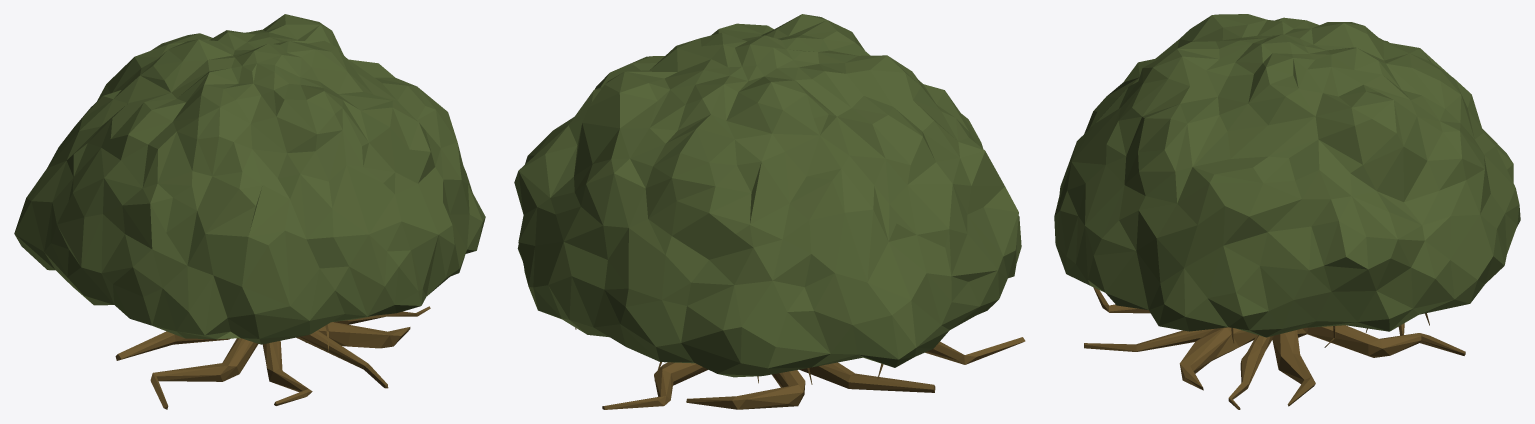
File: delh_foli_03.fbx
3 renders of one model, left to right at view 1: azimuth 30°, elevation 25°; view 2: azimuth 150°, elevation 25°; view 3: azimuth 270°, elevation 25°, orthographic. The views are drawn at different scales.
Parts seen in each view (by area): view 1: delh_foli_03; view 2: delh_foli_03; view 3: delh_foli_03.
Boxes of the visible parts, x1=… form: delh_foli_03: x1=14, y1=14, x2=485, y2=409; delh_foli_03: x1=514, y1=14, x2=1025, y2=409; delh_foli_03: x1=1054, y1=14, x2=1520, y2=409.
Size of the model in its own units: 3797 by 2704 by 3793.
